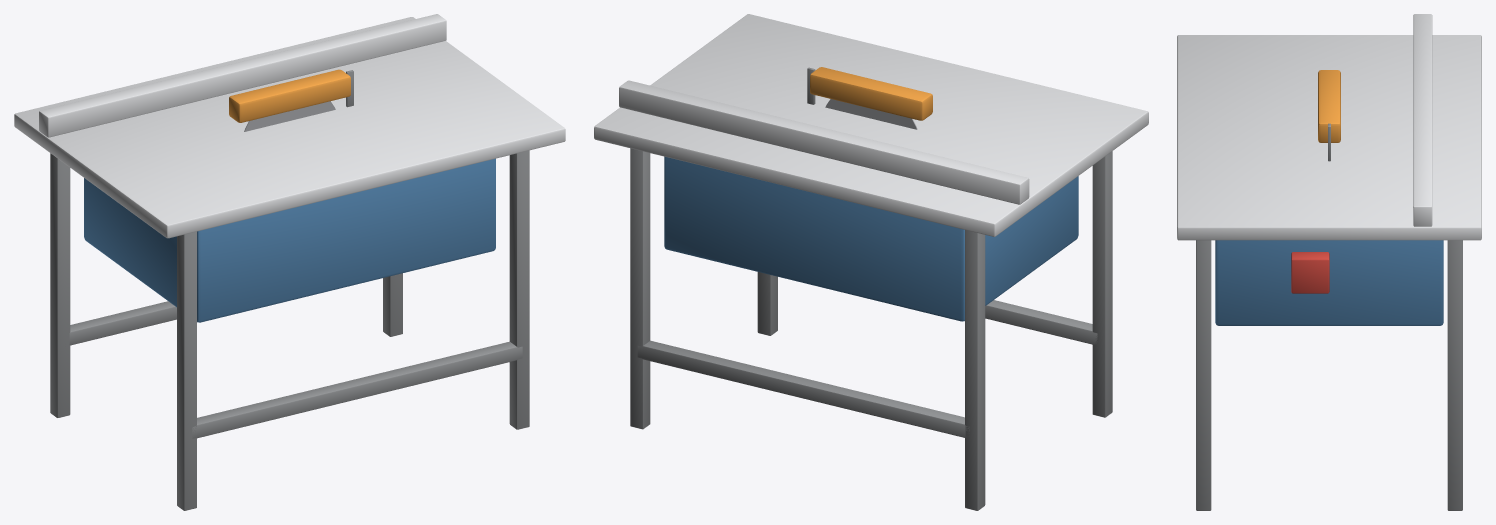
The model's file is EQP-PEQ-001_anim.glb.
The picture shows the model from 3 angles, left to right: view 1: azimuth 30°, elevation 25°; view 2: azimuth 150°, elevation 25°; view 3: azimuth 270°, elevation 25°; orthographic projection.
Parts seen in each view (by area): view 1: EQP-PEQ-001_anim2, EQP-PEQ-001_anim0; view 2: EQP-PEQ-001_anim2, EQP-PEQ-001_anim0; view 3: EQP-PEQ-001_anim2.
Part boxes in pixels (<box>): EQP-PEQ-001_anim2: <box>14,14,565,510</box>; EQP-PEQ-001_anim0: <box>244,101,335,131</box>; EQP-PEQ-001_anim2: <box>594,14,1148,510</box>; EQP-PEQ-001_anim0: <box>825,99,917,129</box>; EQP-PEQ-001_anim2: <box>1177,14,1481,510</box>.
Bounding box in the file's own units: 1.2 × 0.96 × 0.8.
